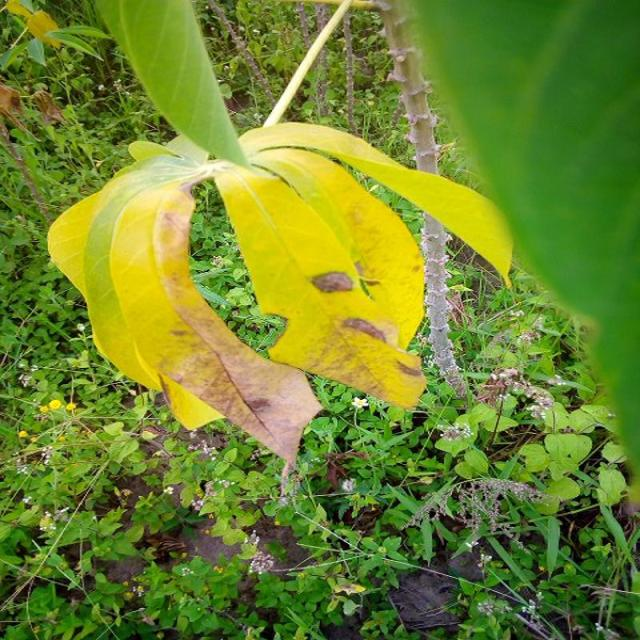cassava leaf: (46, 1, 514, 498)
